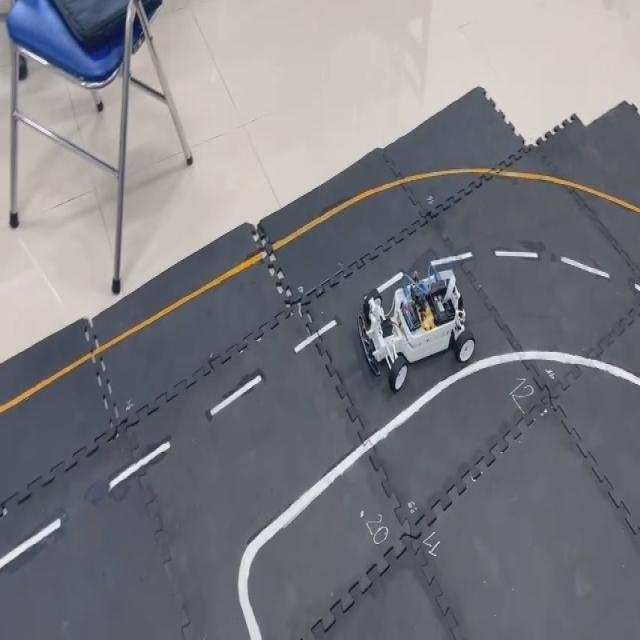SiCo-CAR: (356, 259, 476, 392)
